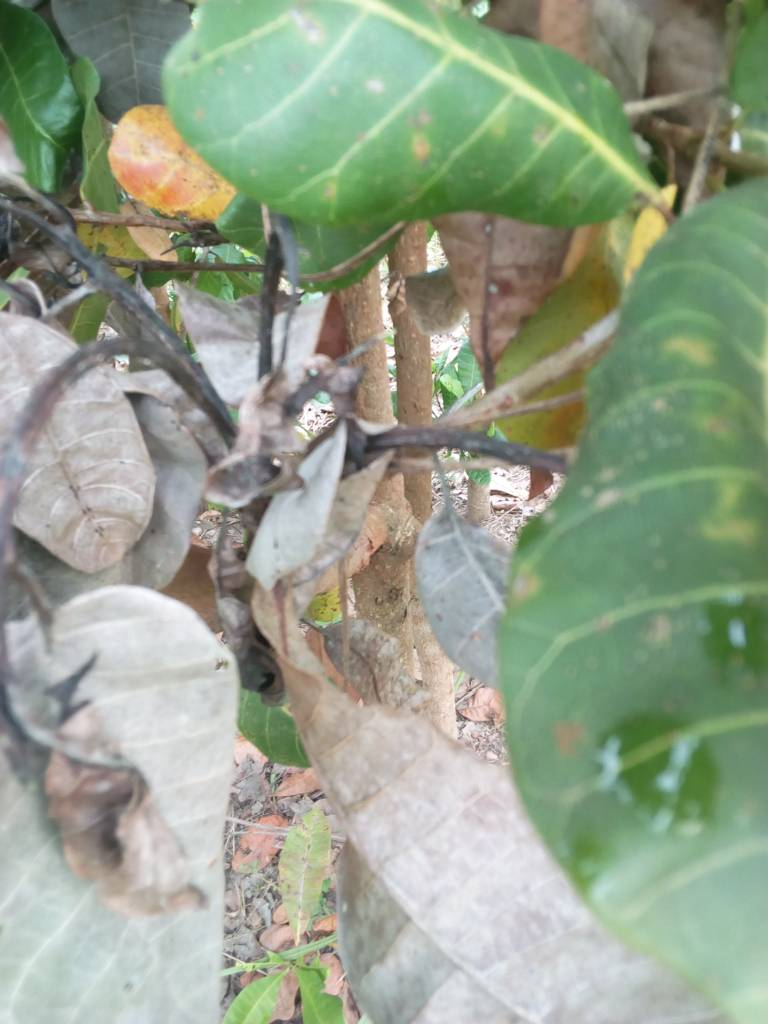Dessèchement des bourgeons: (93, 278, 225, 416), (357, 421, 571, 464)
